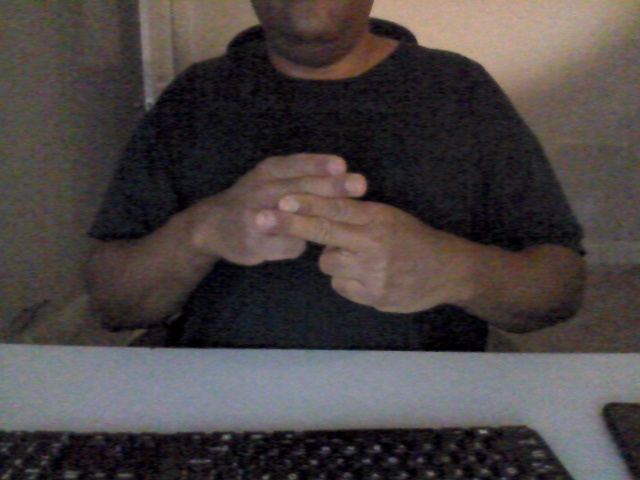name: (213, 140, 457, 320)
